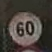limite 60: (7, 10, 43, 47)
